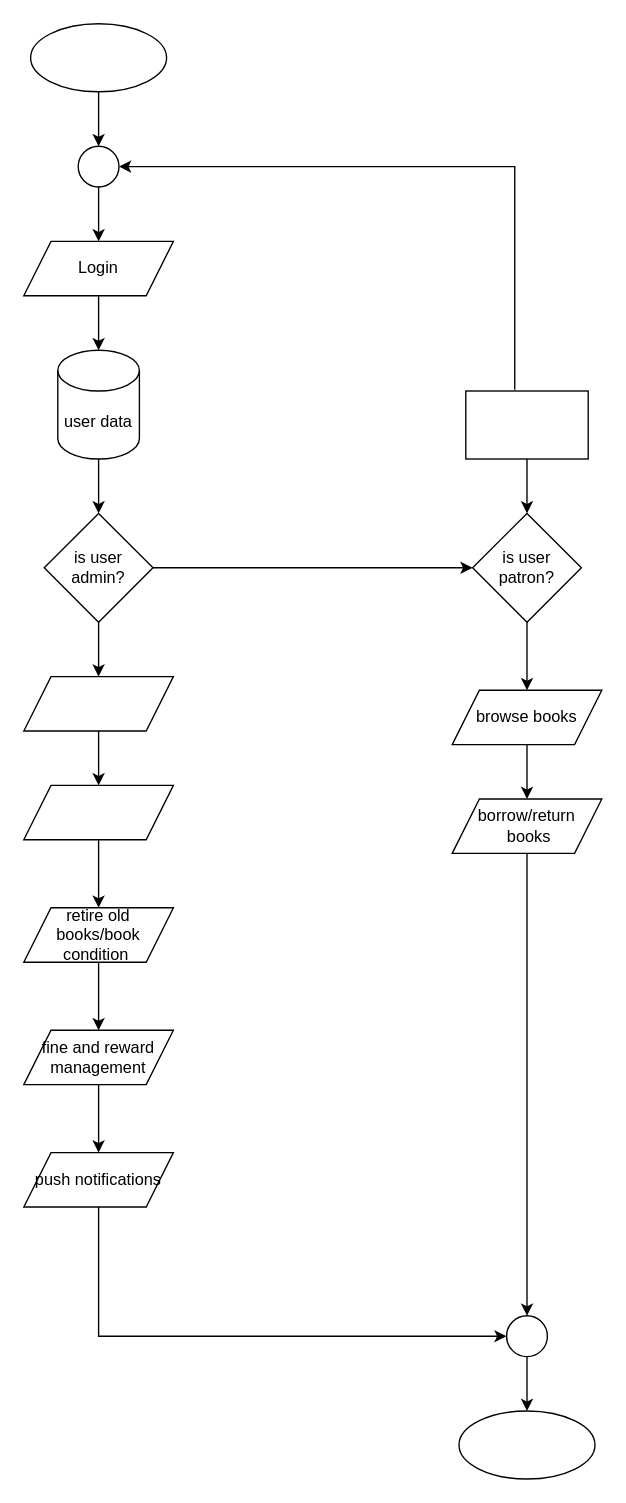
This 626x1503 diagram has some shape labels left out. Each missing label, with the centre of its shape:
Add books: (97,703)
deny access: (526,424)
display borrowed: (97,812)
START: (98,57)
STOP: (526,1444)
